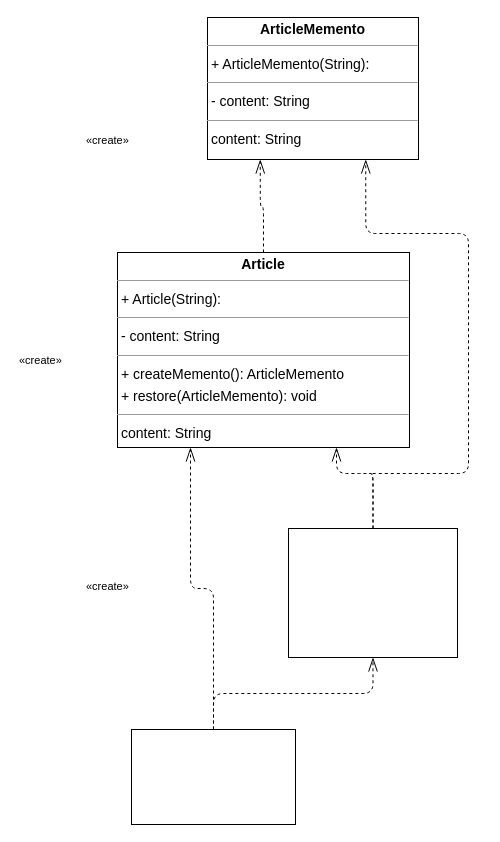
The diagram is 500 pixels wide and 842 high, and some of its shapes have lost their labels. The shapes that lost their labels are listed below. From the top down, each one's centre as x and y in pixels, then its label:
At point (373, 593): "Caretaker + Caretaker(): + undo(Article): void + save(Article): void".
At point (213, 776): "Main + Main(): + main(String[]): void".
